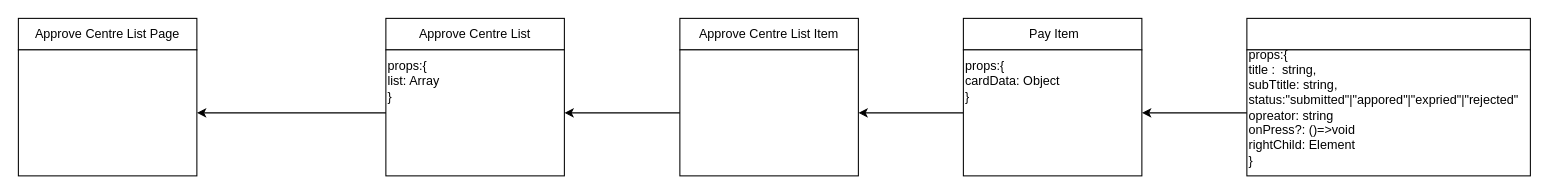
Image size: 1559x194. Some labels were removed from this diagram. Here are the shapes that lost their labels. From the top down, the centre of each, then its label:
(1388,33): Approve List Base Item
(107,112): state:{ approveList : Array, myRequestList: Array, }
(768,112): props:{ cardType:"Pay" , cardData: Object }
